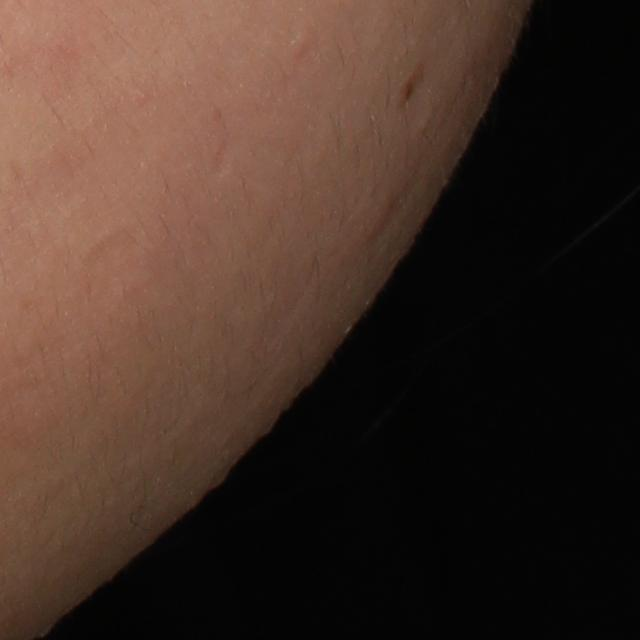nevus: (394, 65, 427, 110)
